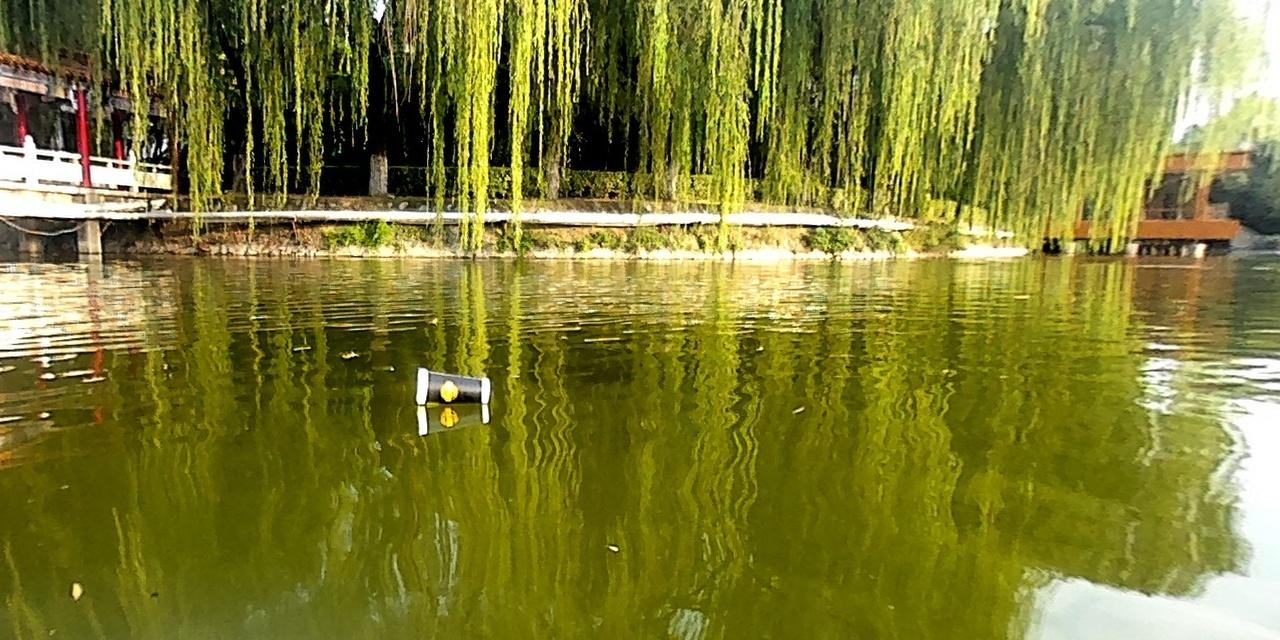bottle: (407, 366, 495, 409)
